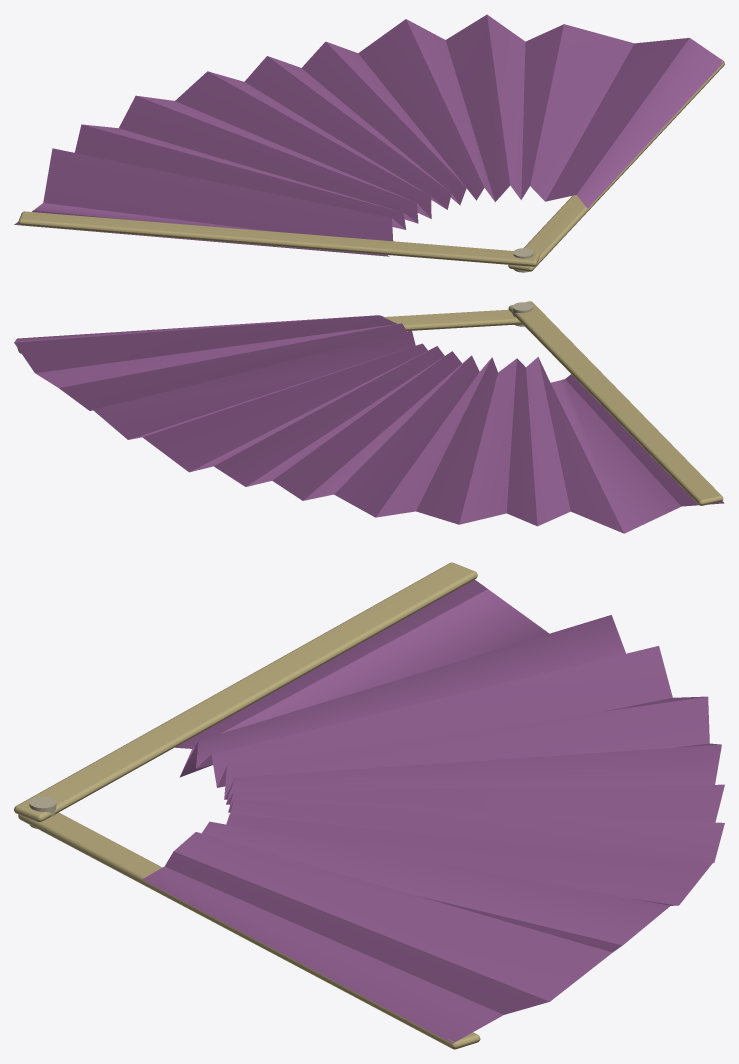
Rendered from PaperFanGeo 1.fbx.
The picture shows the model from 3 angles, top to bottom: view 1: azimuth 30°, elevation 25°; view 2: azimuth 150°, elevation 25°; view 3: azimuth 270°, elevation 25°; orthographic projection. The views are drawn at different scales.
Visible parts, largest first — view 1: paperfangeo; view 2: paperfangeo; view 3: paperfangeo.
Boxes of the visible parts, x1=… form: paperfangeo: x1=14, y1=14, x2=724, y2=272; paperfangeo: x1=14, y1=301, x2=724, y2=533; paperfangeo: x1=14, y1=562, x2=724, y2=1049.
Bounding box in the file's own units: 175 × 9.24 × 113.
